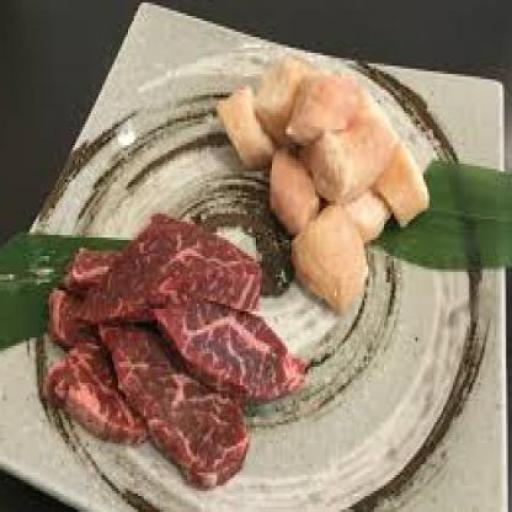biodegradable: (67, 246, 310, 398), (102, 327, 250, 485), (81, 211, 264, 319), (2, 230, 133, 351), (374, 160, 511, 267), (45, 340, 149, 444), (311, 94, 402, 200), (296, 201, 370, 309), (290, 72, 364, 146), (218, 84, 280, 172), (258, 52, 311, 151), (268, 140, 323, 234), (376, 135, 431, 227), (49, 284, 102, 346), (350, 180, 396, 235)
